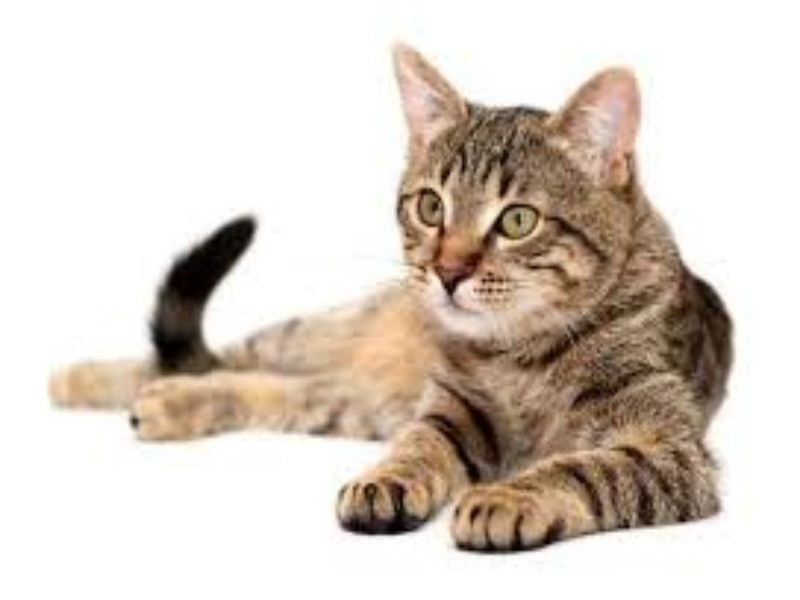cat: (48, 35, 742, 559)
